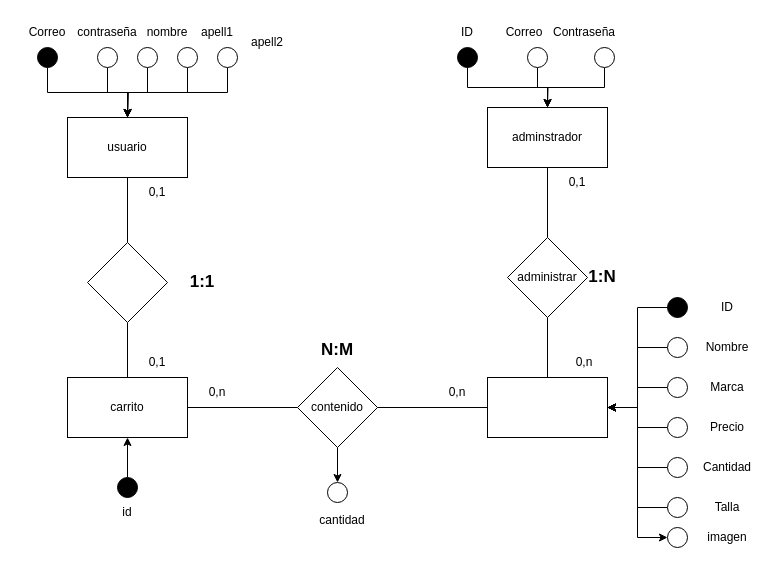
The diagram is 774 pixels wide and 569 high, and some of its shapes have lost their labels. Here are the shapes that lost their labels. From the top down, the centre of each, then its label:
(x=127, y=282): tiene
(x=547, y=407): prenda
